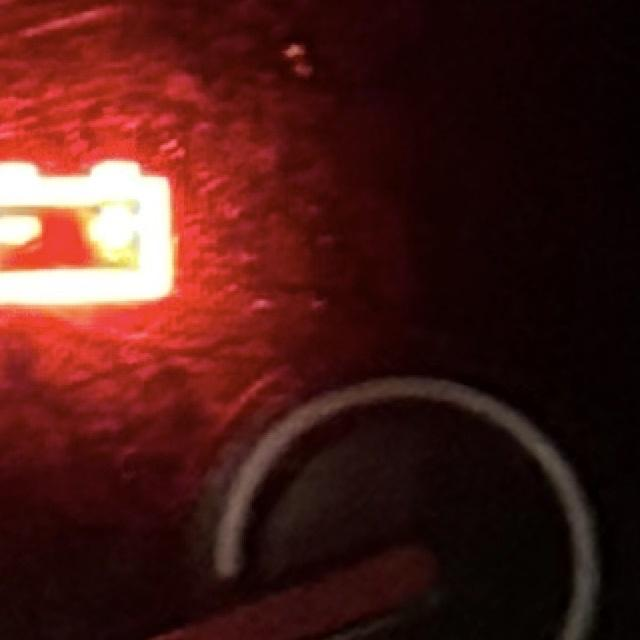Battery Issue: (1, 159, 179, 310)
